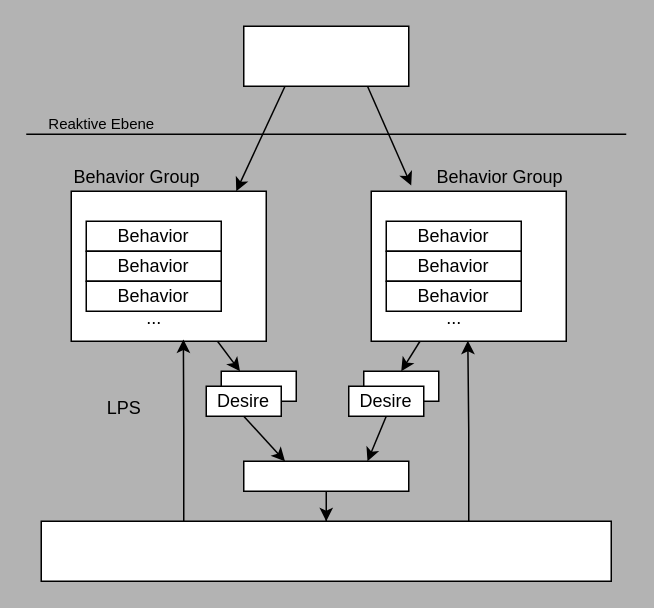
This 654x608 diagram has some shape labels left out. The shapes that lost their labels are listed below. From the top down, each one's centre as x and y in pixels, then its label:
At pixel 325 55: "Strategy".
At pixel 325 475: "Priority Resolver".
At pixel 325 550: "Saphira Robot".
